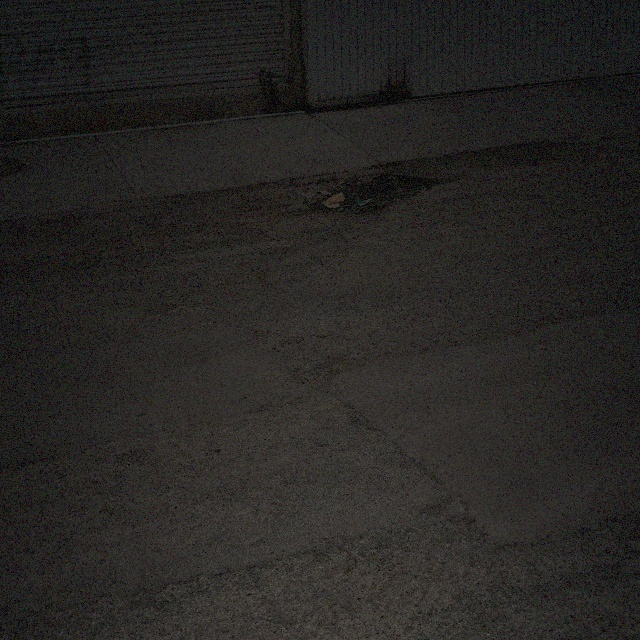pothole: (326, 166, 440, 212)
